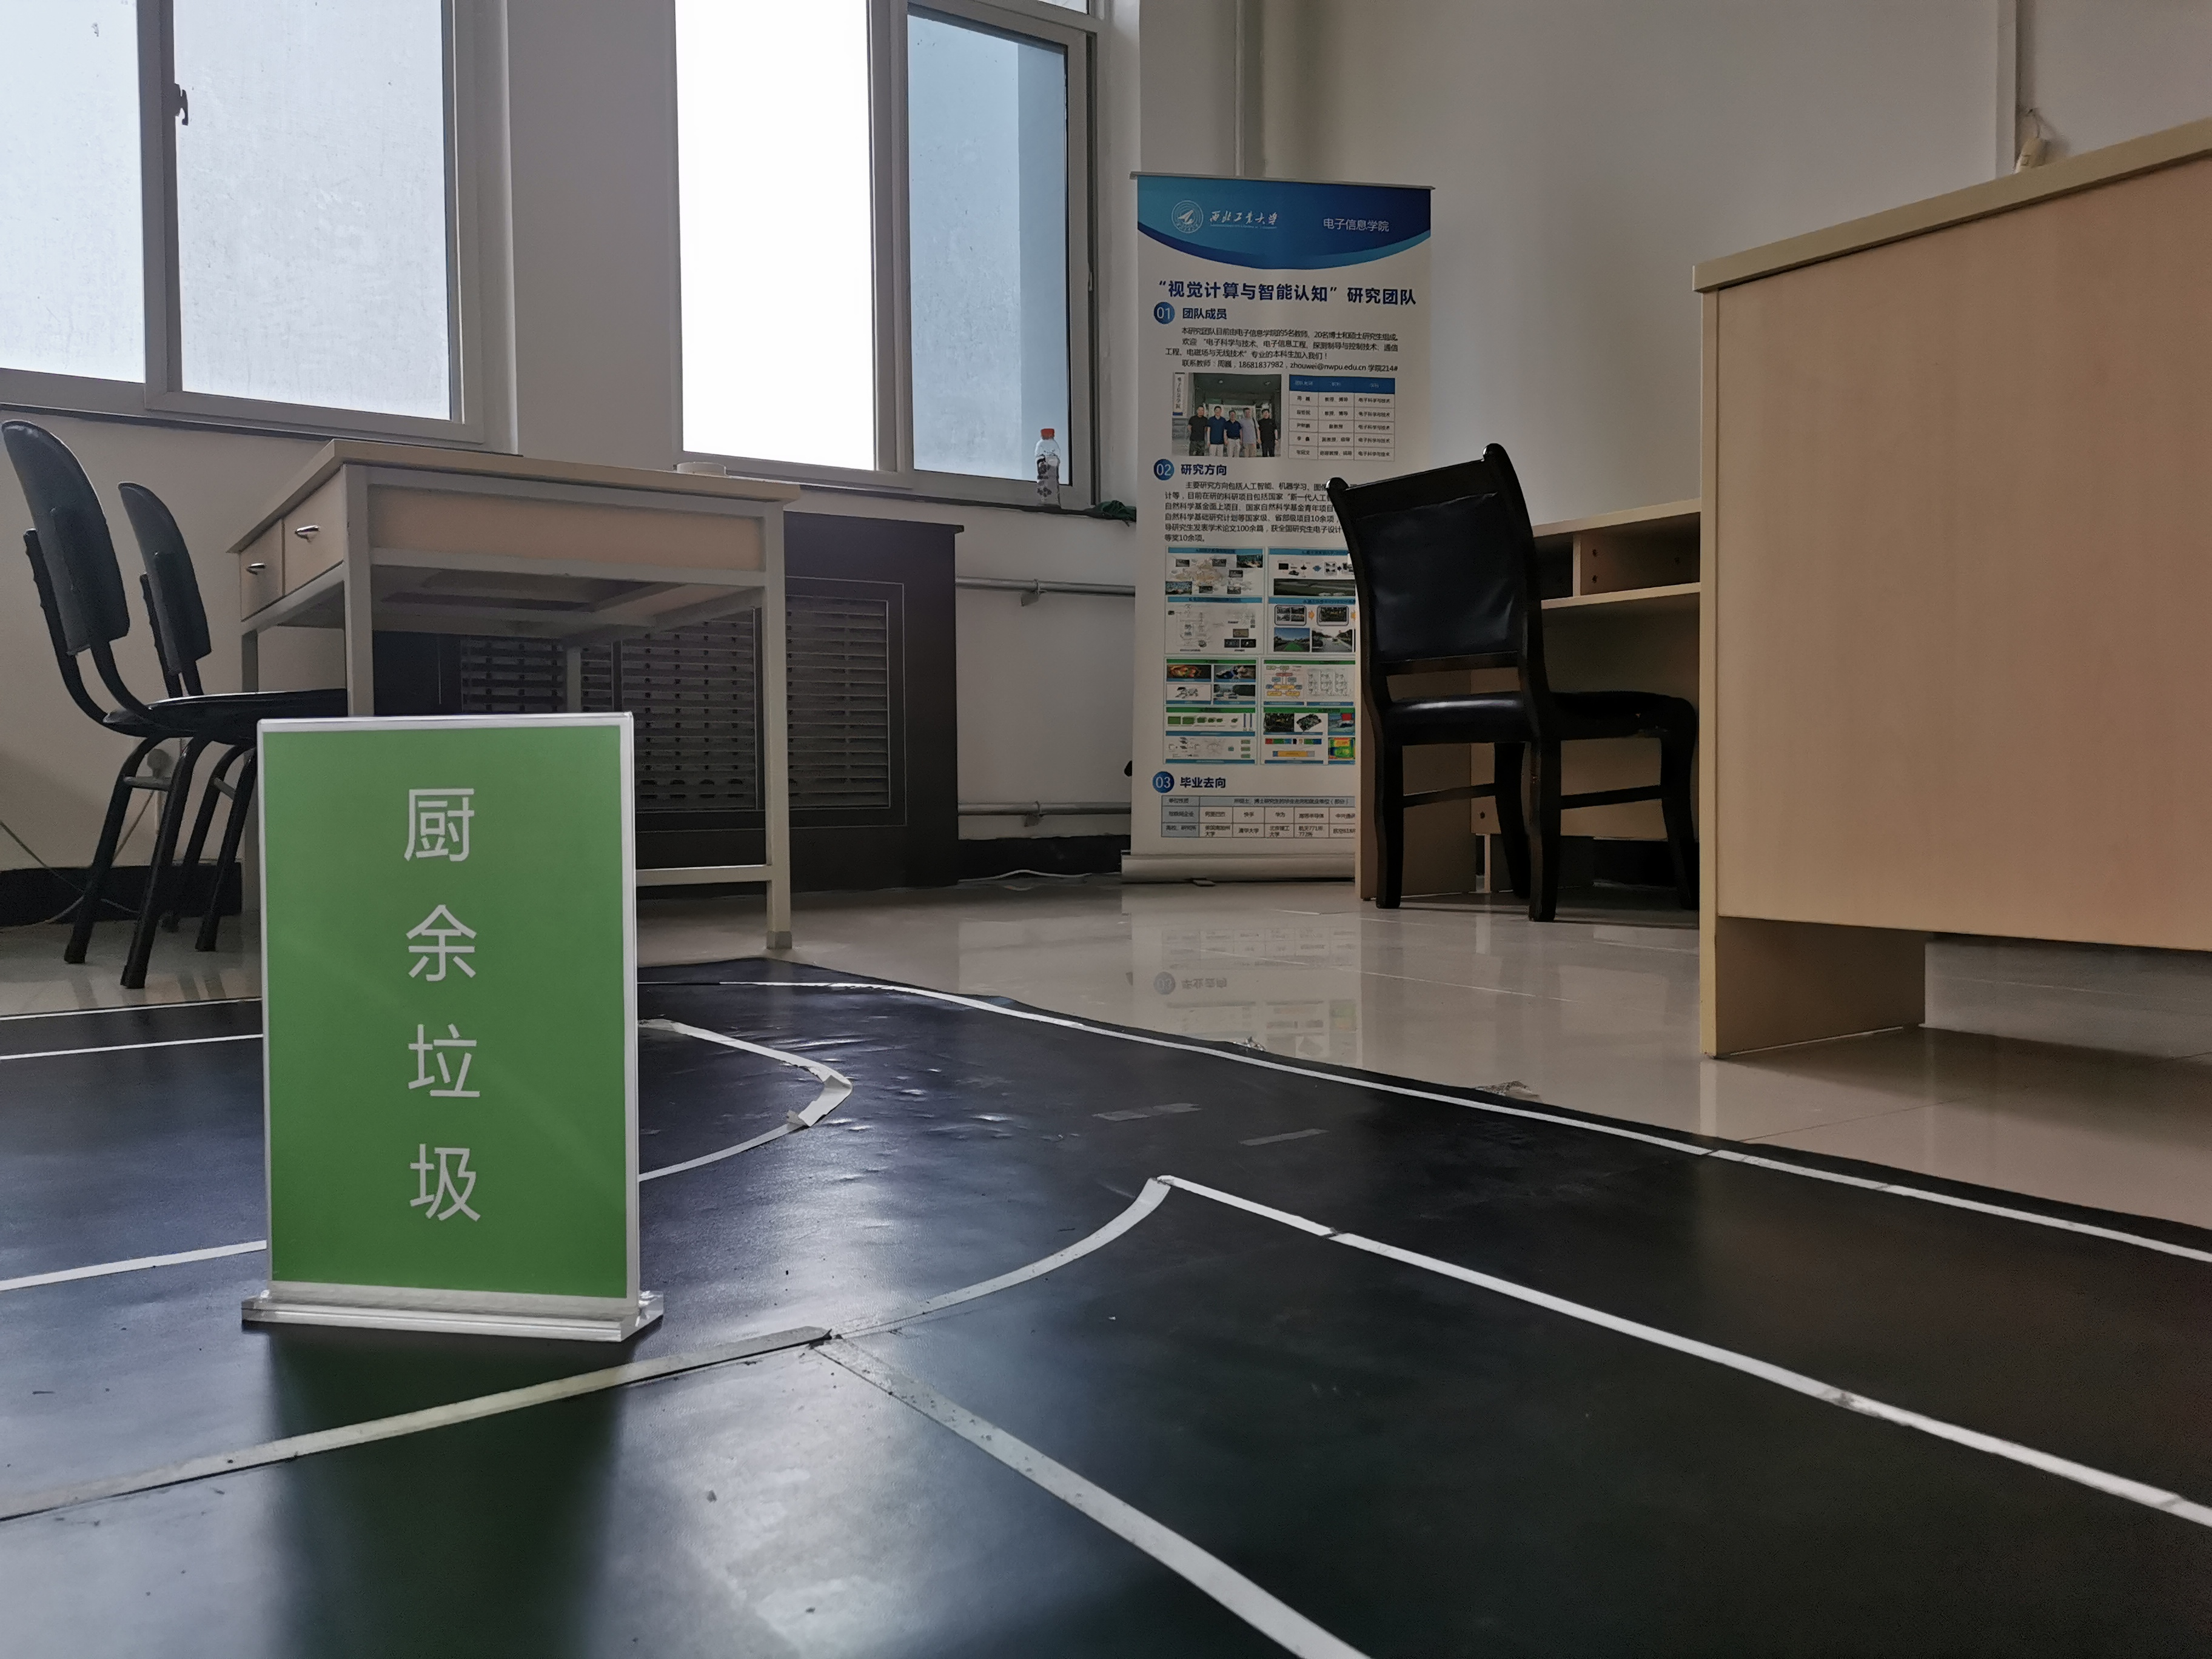green: (277, 741, 622, 1272)
